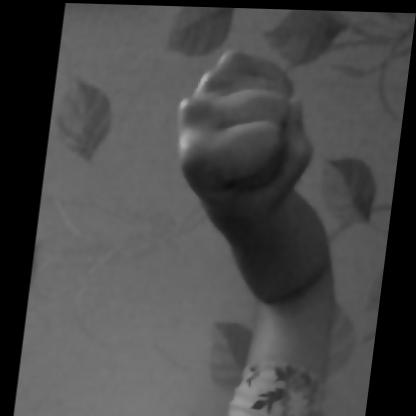fist: (142, 32, 378, 361)
